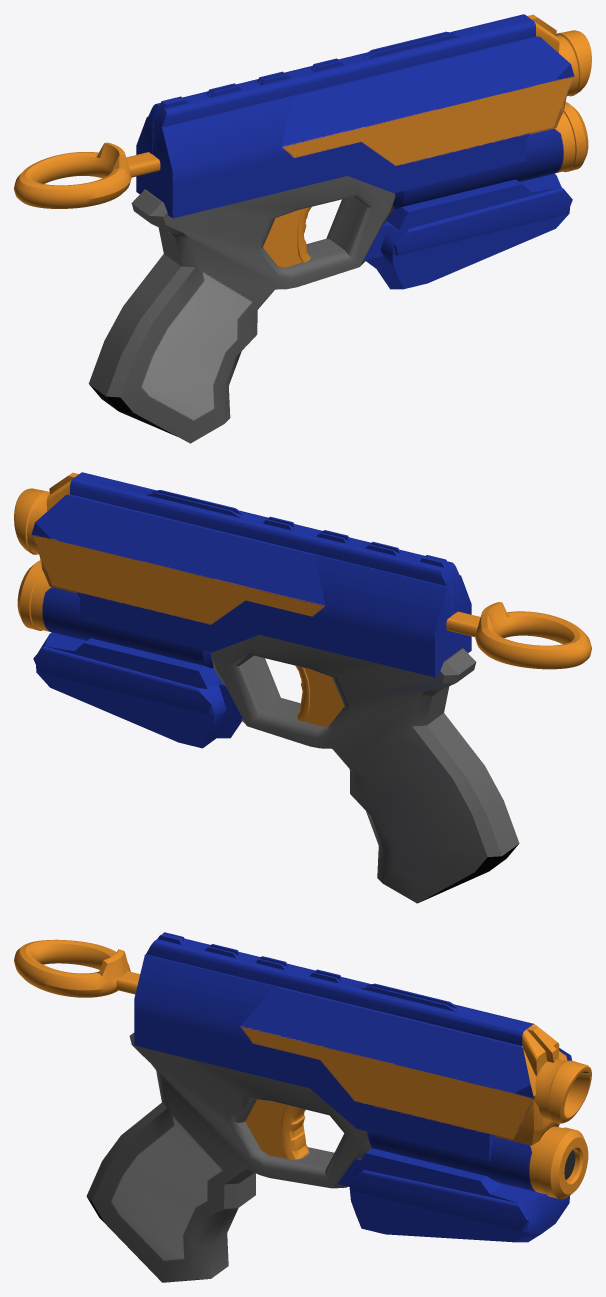
File: NerfGun.fbx
3 renders of one model, top to bottom at view 1: azimuth 30°, elevation 25°; view 2: azimuth 150°, elevation 25°; view 3: azimuth 330°, elevation 25°, orthographic.
Parts seen in each view (by area): view 1: NerfTop, NerfGrip, NerfBottom, NerfBarrel, NerfPuller; view 2: NerfTop, NerfGrip, NerfBottom, NerfBarrel, NerfPuller; view 3: NerfTop, NerfGrip, NerfBottom, NerfBarrel, NerfPuller.
Boxes of the visible parts, left/top/right/bottom form: NerfTop: left=136, top=14, right=574, bottom=218; NerfGrip: left=88, top=176, right=395, bottom=443; NerfBottom: left=364, top=173, right=572, bottom=289; NerfBarrel: left=393, top=30, right=591, bottom=209; NerfPuller: left=14, top=142, right=160, bottom=208; NerfTop: left=31, top=472, right=471, bottom=677; NerfGrip: left=211, top=634, right=519, bottom=903; NerfBottom: left=33, top=632, right=243, bottom=748; NerfBarrel: left=14, top=488, right=213, bottom=668; NerfPuller: left=446, top=602, right=591, bottom=669; NerfTop: left=134, top=932, right=572, bottom=1160; NerfGrip: left=86, top=1033, right=371, bottom=1282; NerfBottom: left=338, top=1148, right=569, bottom=1242; NerfBarrel: left=367, top=1059, right=591, bottom=1199; NerfPuller: left=14, top=939, right=140, bottom=997.
Bounding box in the file's own units: 5.72 × 3.24 × 0.8149.
Materials: 1 (1 with a texture image).
